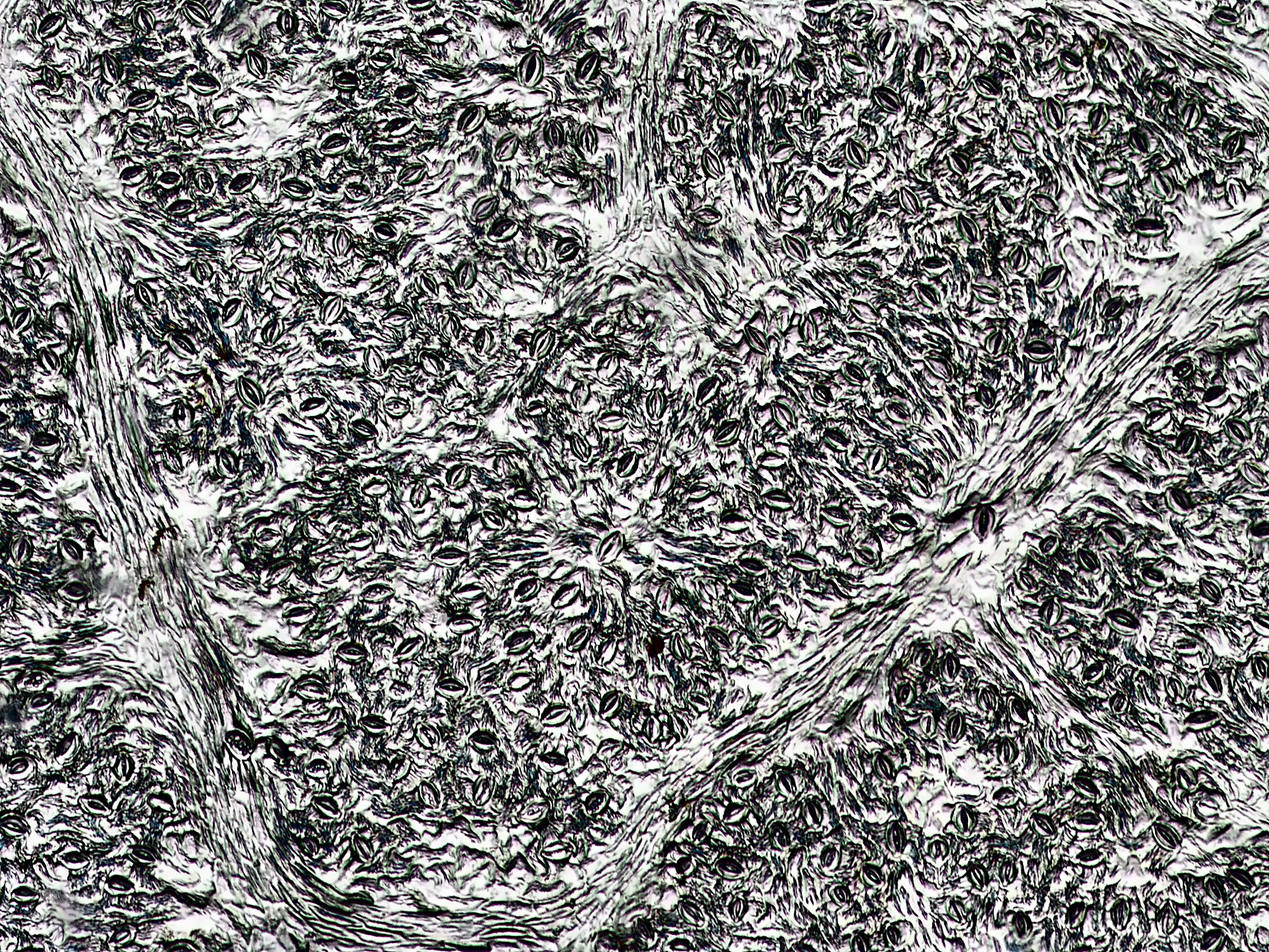stomata: (528, 325, 560, 362), (293, 674, 333, 702), (15, 665, 53, 692), (179, 0, 212, 31), (596, 531, 625, 566), (1104, 608, 1141, 635), (35, 11, 68, 41), (7, 533, 34, 568), (434, 674, 470, 700), (517, 798, 553, 824), (104, 922, 139, 948), (874, 26, 900, 61), (1152, 821, 1182, 851), (167, 328, 198, 357), (370, 217, 402, 245), (311, 792, 345, 818), (1022, 338, 1056, 364), (225, 726, 253, 757), (4, 751, 36, 778), (239, 375, 265, 408), (951, 803, 976, 837), (59, 580, 94, 604), (712, 416, 740, 446), (771, 401, 799, 431), (849, 297, 880, 324), (519, 51, 542, 87), (282, 602, 318, 625), (1084, 100, 1109, 133), (1181, 708, 1220, 729), (363, 343, 387, 377), (537, 749, 571, 773), (1110, 894, 1132, 931), (653, 466, 678, 498), (1041, 96, 1066, 128), (279, 178, 315, 200), (215, 446, 239, 479), (507, 486, 540, 510), (432, 545, 468, 567), (541, 839, 577, 861), (1069, 775, 1102, 799), (54, 536, 82, 564), (0, 810, 29, 837), (744, 324, 771, 353), (899, 185, 922, 219), (645, 387, 668, 421), (1225, 417, 1251, 447), (872, 87, 903, 112), (763, 486, 794, 511), (380, 307, 415, 329), (1157, 900, 1179, 935), (548, 162, 580, 186), (252, 526, 284, 550), (504, 630, 536, 654), (969, 280, 1001, 304), (1037, 265, 1065, 292), (973, 504, 994, 540), (460, 104, 486, 133), (712, 90, 738, 119), (841, 360, 870, 386), (576, 51, 600, 82), (56, 731, 80, 762), (700, 147, 724, 178), (1179, 101, 1203, 132), (392, 637, 424, 660), (440, 389, 472, 412), (792, 57, 819, 84), (810, 380, 837, 407), (1099, 293, 1126, 320), (271, 274, 299, 300), (705, 625, 733, 651), (233, 251, 266, 273), (737, 38, 759, 71), (221, 298, 246, 327), (596, 350, 621, 379), (696, 377, 721, 406), (52, 302, 76, 332), (60, 846, 90, 870), (418, 779, 442, 809), (1007, 693, 1031, 723), (923, 357, 953, 381), (357, 713, 391, 734), (489, 218, 520, 241), (453, 259, 476, 290), (873, 752, 896, 783), (450, 613, 482, 635), (599, 690, 624, 718), (887, 820, 907, 855), (983, 329, 1008, 357), (1202, 382, 1230, 407), (319, 294, 343, 323), (542, 703, 571, 727), (693, 576, 717, 605), (1173, 760, 1197, 789), (361, 583, 394, 604), (656, 579, 677, 612), (126, 88, 156, 111), (351, 831, 374, 861), (595, 635, 618, 665), (568, 431, 591, 461), (866, 444, 889, 474), (134, 3, 156, 34), (575, 123, 597, 154), (821, 428, 852, 450), (471, 193, 497, 219), (418, 350, 445, 375), (188, 72, 220, 93), (495, 133, 519, 161), (297, 396, 329, 417), (914, 44, 935, 76), (820, 504, 852, 525), (1072, 811, 1104, 832), (1099, 523, 1127, 547), (263, 561, 292, 584), (912, 284, 941, 307), (1006, 243, 1029, 272), (683, 690, 712, 713), (1099, 164, 1128, 187), (735, 558, 772, 576), (1133, 217, 1168, 236), (719, 509, 749, 531), (385, 116, 416, 137), (472, 774, 493, 805), (697, 13, 718, 44), (847, 136, 868, 167), (715, 859, 746, 880), (978, 685, 999, 716), (1223, 129, 1244, 160), (678, 899, 703, 925), (416, 270, 440, 297), (106, 873, 133, 897), (418, 722, 442, 749), (25, 689, 53, 712), (388, 753, 411, 781), (784, 234, 807, 262), (956, 213, 979, 241), (851, 544, 879, 567), (774, 768, 797, 796), (971, 73, 999, 96), (1127, 128, 1150, 156), (1200, 667, 1223, 695), (78, 793, 110, 813), (946, 712, 966, 744), (1039, 597, 1061, 626), (398, 164, 428, 185), (359, 477, 389, 498), (671, 631, 692, 661), (886, 512, 916, 533), (802, 798, 823, 828), (768, 84, 787, 117), (596, 412, 629, 431), (788, 553, 821, 572), (554, 237, 580, 261), (437, 311, 461, 337), (948, 150, 972, 176), (1229, 868, 1255, 892), (191, 258, 214, 285), (263, 318, 286, 345), (1030, 191, 1057, 214), (884, 399, 911, 422), (127, 843, 158, 863), (383, 396, 414, 416), (1013, 910, 1033, 941), (246, 50, 268, 78), (115, 752, 137, 780), (551, 584, 579, 606), (567, 624, 589, 652), (104, 48, 121, 84), (617, 448, 638, 477), (967, 860, 988, 889), (421, 23, 451, 43), (172, 400, 192, 430), (683, 65, 703, 95), (997, 736, 1017, 766), (1145, 408, 1170, 432), (174, 114, 200, 137), (318, 561, 344, 584), (667, 154, 690, 180), (1031, 811, 1054, 837), (1167, 486, 1190, 512), (160, 444, 182, 471), (926, 834, 948, 861), (31, 432, 62, 451), (322, 133, 350, 154), (508, 669, 536, 690), (848, 9, 876, 30), (1066, 900, 1087, 928), (957, 116, 985, 137), (1225, 179, 1246, 207), (278, 7, 298, 36), (544, 120, 564, 149), (940, 653, 960, 682), (304, 517, 328, 541), (515, 577, 539, 601), (765, 823, 789, 847), (1009, 128, 1033, 152), (444, 464, 469, 487), (1176, 430, 1199, 455), (1141, 564, 1166, 587), (231, 173, 257, 195), (473, 327, 495, 353), (818, 844, 840, 870), (1201, 577, 1223, 603), (467, 730, 497, 749), (636, 915, 655, 945), (1205, 874, 1224, 904), (627, 300, 648, 327), (947, 896, 968, 923), (668, 713, 689, 740), (729, 582, 757, 602), (1213, 5, 1241, 25), (998, 855, 1016, 886), (586, 789, 609, 813), (925, 92, 949, 115), (411, 478, 430, 507), (357, 258, 382, 280), (1199, 930, 1224, 952), (526, 243, 547, 269), (453, 584, 485, 601), (689, 207, 721, 224), (338, 644, 368, 662), (597, 739, 624, 759), (769, 142, 796, 162), (571, 379, 591, 406), (643, 714, 662, 742), (833, 208, 852, 236), (494, 451, 513, 479), (860, 862, 883, 885), (1066, 724, 1089, 747), (1060, 48, 1084, 70), (1252, 654, 1269, 685), (39, 349, 60, 374), (148, 793, 173, 814), (673, 856, 698, 877), (1153, 172, 1174, 197), (1077, 848, 1106, 866), (120, 164, 146, 184), (11, 306, 31, 332), (799, 317, 819, 343), (722, 803, 748, 823), (1079, 546, 1099, 572), (349, 419, 376, 438), (524, 399, 551, 418), (977, 382, 996, 409), (166, 201, 196, 218), (1172, 638, 1202, 655), (213, 104, 236, 126), (480, 508, 503, 530), (996, 194, 1018, 217), (909, 475, 931, 498), (1151, 78, 1174, 100), (1083, 661, 1106, 683), (789, 847, 810, 871), (1245, 463, 1266, 487), (1165, 675, 1186, 699), (669, 110, 689, 135), (727, 899, 747, 924), (344, 182, 370, 201), (333, 73, 362, 90), (802, 100, 819, 129), (136, 280, 154, 307), (10, 884, 37, 902), (730, 770, 757, 788), (23, 257, 44, 280), (843, 54, 866, 75), (829, 882, 850, 905), (1246, 518, 1269, 539), (758, 450, 786, 467), (43, 65, 61, 91), (321, 0, 347, 18), (335, 226, 350, 257), (594, 316, 616, 337), (759, 614, 780, 636), (691, 822, 712, 844), (1198, 796, 1219, 818), (1172, 360, 1194, 381), (194, 170, 214, 193), (1018, 570, 1038, 593), (1249, 611, 1269, 634), (921, 255, 948, 272), (277, 228, 301, 247), (0, 591, 18, 616), (779, 196, 804, 214), (994, 787, 1019, 805), (346, 531, 372, 548), (306, 759, 332, 776), (686, 482, 712, 499), (0, 477, 22, 497), (1061, 648, 1081, 670), (979, 892, 998, 915), (369, 52, 394, 69), (393, 87, 418, 104), (995, 42, 1016, 62), (1109, 691, 1128, 713), (806, 0, 838, 13), (855, 260, 881, 276), (897, 682, 914, 706), (1039, 534, 1059, 554), (157, 171, 181, 187), (301, 836, 319, 856), (851, 932, 869, 952), (916, 648, 933, 669), (920, 714, 937, 735), (405, 0, 437, 11), (129, 124, 150, 140), (666, 940, 694, 952), (1028, 20, 1043, 42), (885, 923, 898, 945)
